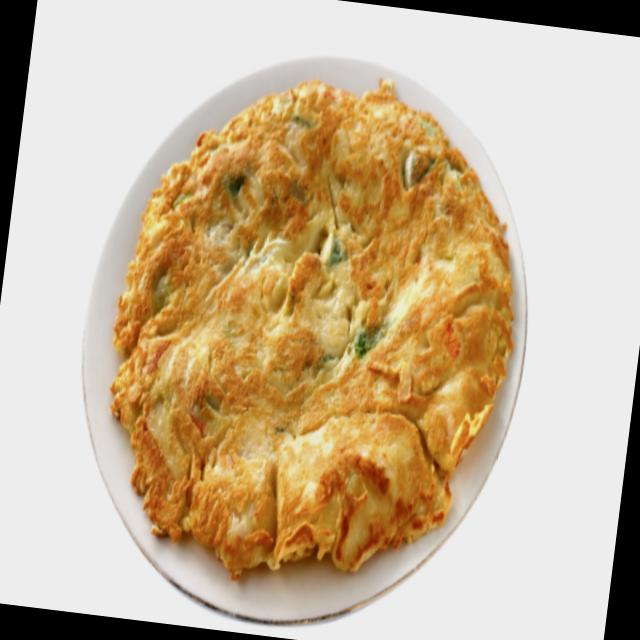trung chien: (110, 80, 513, 578)
